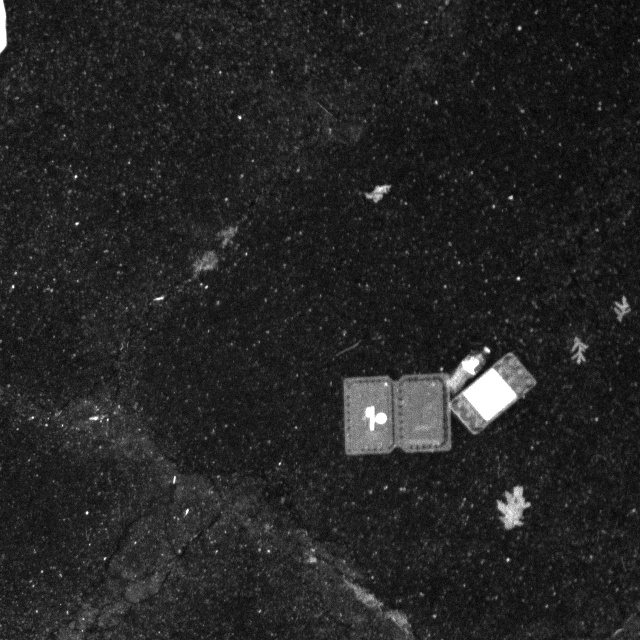bottle: (441, 345, 495, 394)
container: (333, 368, 458, 465), (443, 348, 540, 438)
